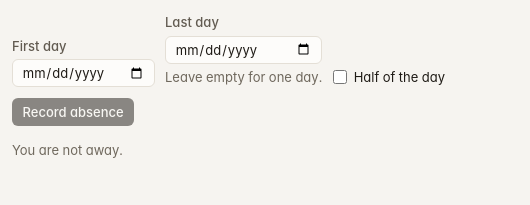
Scenario: the absences section › refuses a half day over two days, and a last day before the first, before sending
The image size is (530, 205).
Type "2099-11-03" into the date field labelled "First day" at (83, 73), box [12,59,154,87]
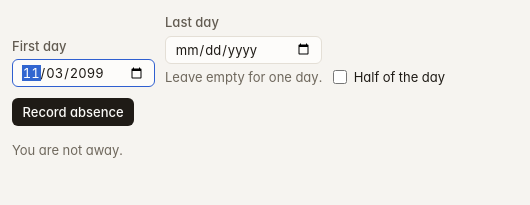
Type "2099-11-04" into the date field labelled "Last day" at (244, 50), box [165,36,322,64]
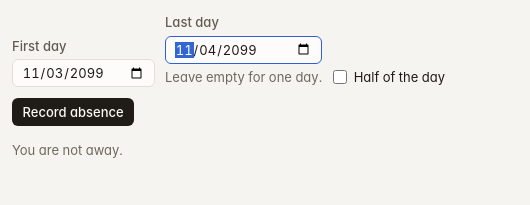
Click the checkbox labelled "Half of the day" at (340, 77), box [333,70,347,84]
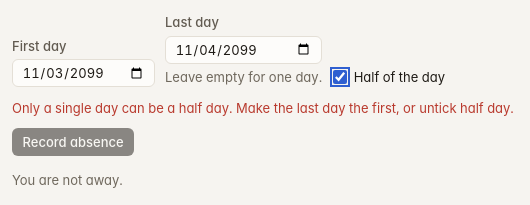
Expected: the message shows "Only a single day can be a half day.", [12,100,514,116]
Expected: the button "Record absence" is disabled, [12,128,134,156]
Click the checkbox labelled "Half of the day" at (340, 77), box [333,70,347,84]
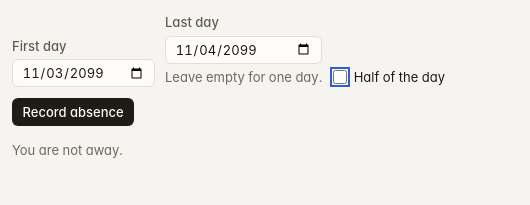
Type "2099-11-01" into the date field labelled "Last day" at (244, 50), box [165,36,322,64]
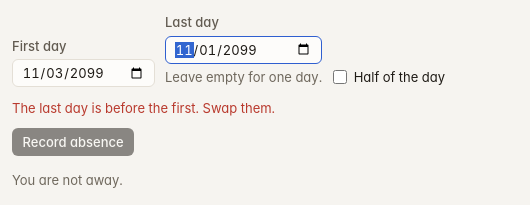
Expected: the message shows "before the first. Swap them.", [12,100,275,116]
